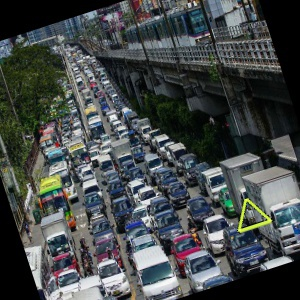triangle: (234, 195, 274, 233)
